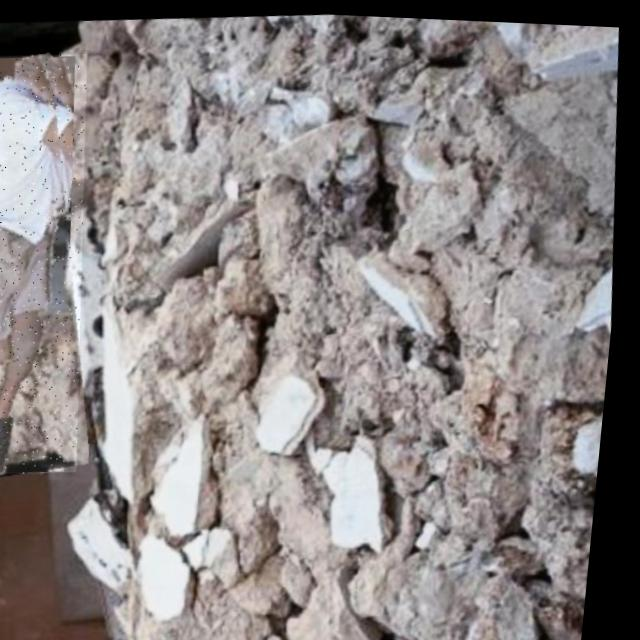Person in Rubble: (0, 48, 116, 477)
